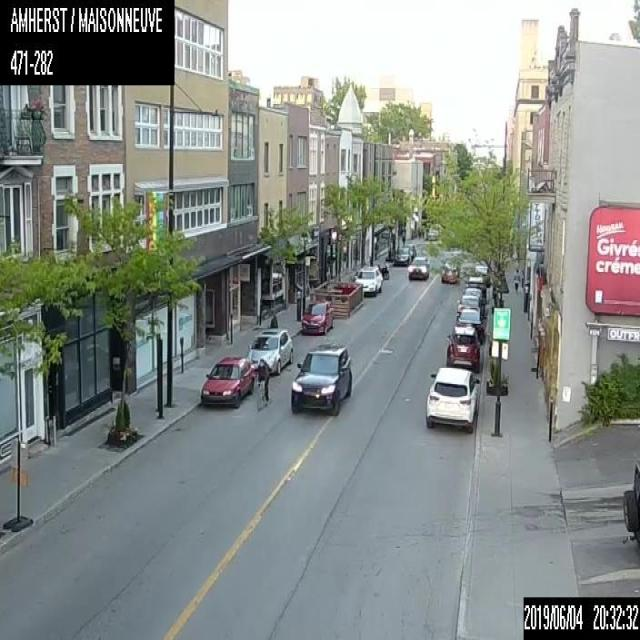construction: (3, 437, 34, 531)
pedestrian: (260, 356, 269, 403), (257, 359, 265, 405), (268, 312, 276, 327), (513, 266, 518, 290), (373, 241, 378, 260), (417, 229, 425, 239), (401, 232, 405, 244)
vehicle: (290, 341, 352, 415), (425, 366, 479, 432), (200, 356, 254, 405), (246, 327, 292, 374), (445, 325, 481, 370), (621, 459, 639, 547), (299, 298, 333, 334), (353, 263, 382, 296), (456, 309, 485, 342), (457, 294, 484, 314), (462, 287, 485, 310), (464, 276, 486, 300), (408, 256, 428, 279), (440, 262, 458, 282), (473, 264, 489, 285), (394, 246, 410, 266), (402, 243, 416, 260), (377, 264, 388, 278)
